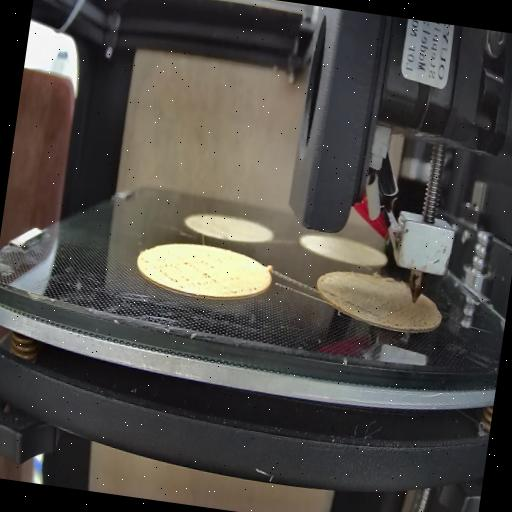under_extrusion: (136, 254, 262, 300), (316, 284, 388, 325), (396, 300, 442, 336)
